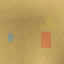person: (7, 33, 13, 42)
structure: (40, 14, 59, 29)
vehicle: (40, 31, 50, 47)
